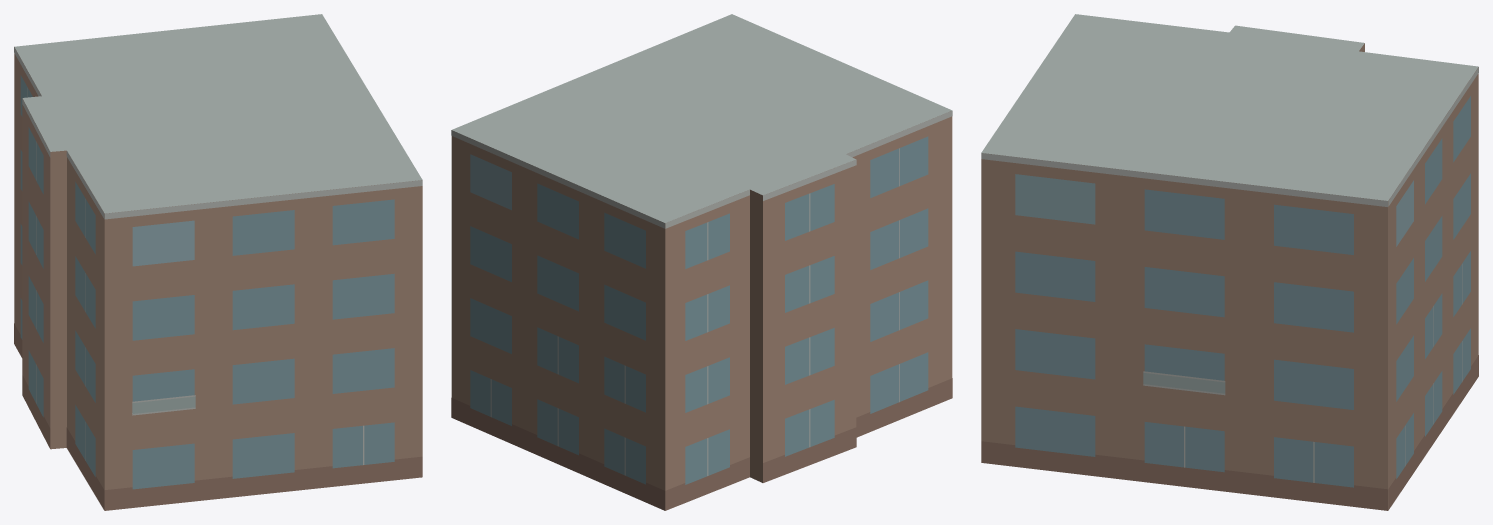
File: survey-upis-32872008.glb
The picture shows the model from 3 angles, left to right: view 1: azimuth 30°, elevation 25°; view 2: azimuth 150°, elevation 25°; view 3: azimuth 270°, elevation 25°; orthographic projection. The views are drawn at different scales.
Parts seen in each view (by area): view 1: survey-upis-32872008.tmp; view 2: survey-upis-32872008.tmp; view 3: survey-upis-32872008.tmp.
Part boxes in pixels (x1,y1,x2,y2): survey-upis-32872008.tmp: [14, 14, 422, 510]; survey-upis-32872008.tmp: [451, 14, 952, 510]; survey-upis-32872008.tmp: [981, 14, 1478, 510].
Size of the model in its own units: 15.8 by 12.2 by 17.76.
